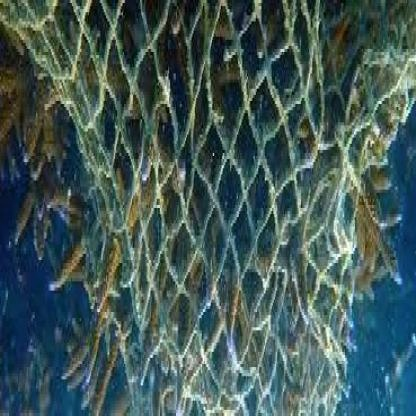net: (10, 3, 401, 416)
